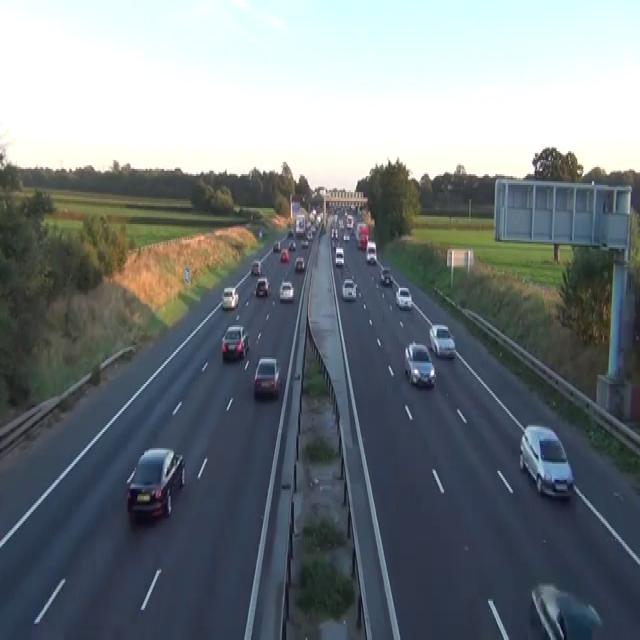Car: (125, 446, 185, 521), (530, 582, 602, 638), (519, 425, 574, 498), (404, 342, 436, 388), (253, 356, 280, 398), (221, 324, 249, 359), (429, 323, 455, 358), (221, 286, 238, 310), (395, 286, 412, 310), (279, 279, 294, 301), (342, 278, 356, 300), (255, 277, 270, 297), (379, 267, 392, 286), (335, 247, 344, 267), (294, 256, 305, 272), (357, 233, 368, 249), (250, 260, 261, 274), (280, 249, 289, 261), (272, 240, 280, 251), (288, 240, 296, 251), (301, 238, 308, 249), (349, 229, 356, 240), (343, 233, 350, 242), (331, 228, 337, 238), (306, 231, 312, 240), (287, 230, 293, 238), (258, 228, 262, 238)
Truck: (356, 222, 369, 249), (295, 214, 305, 236)
